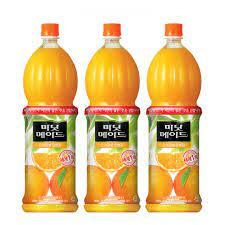minutemaid_org_orange: (143, 20, 216, 220), (14, 15, 83, 217), (83, 15, 145, 220)
